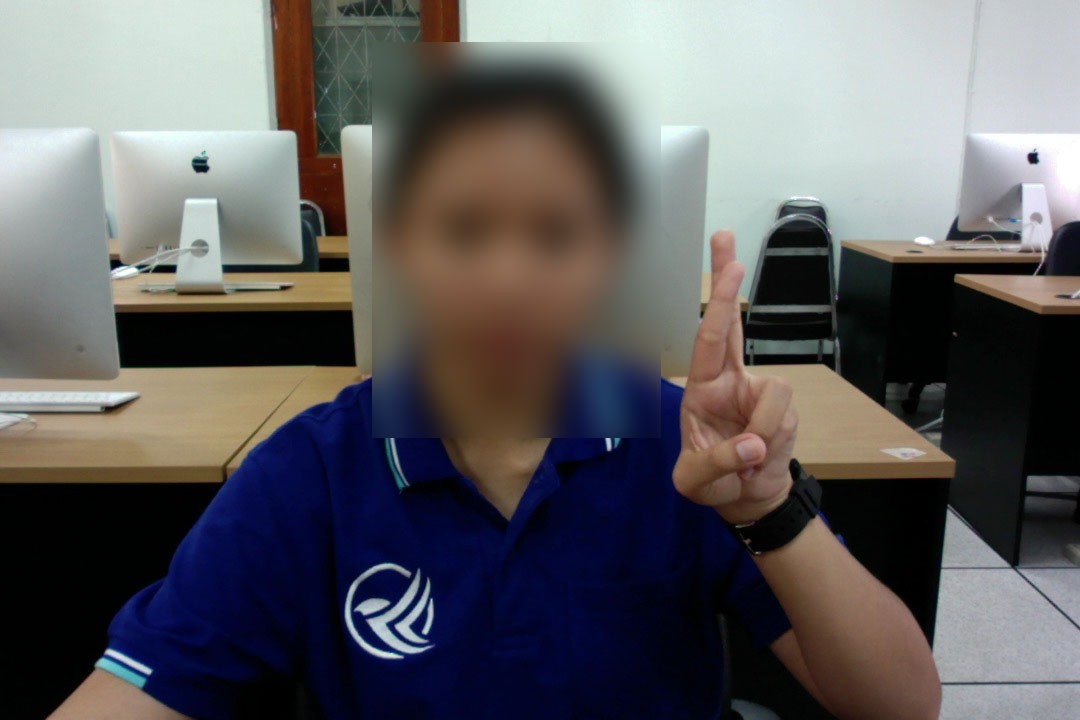rao: (656, 232, 807, 509)
